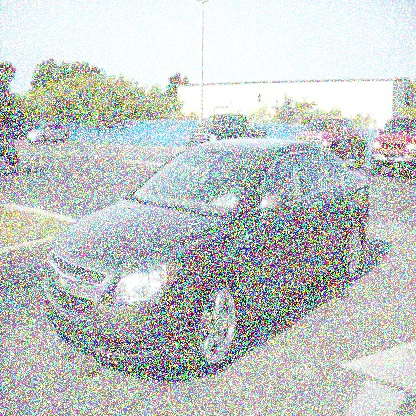Vehicle: (42, 136, 372, 379)
